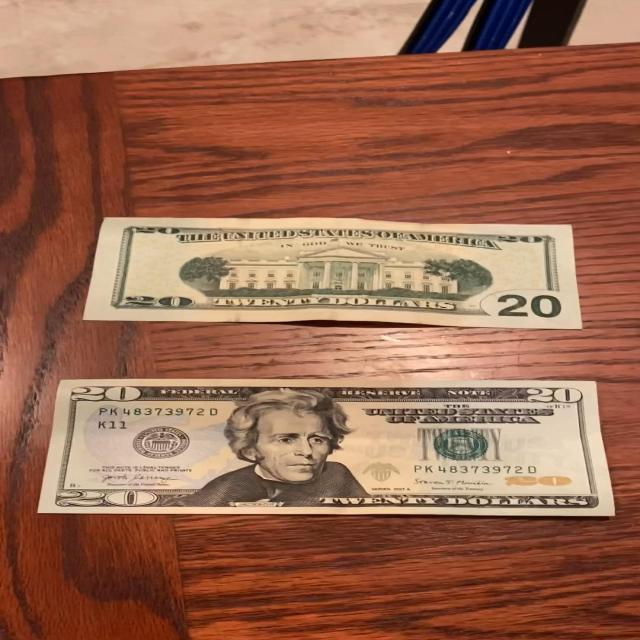20-Back: (76, 211, 587, 336)
20-Front: (32, 376, 620, 522)
